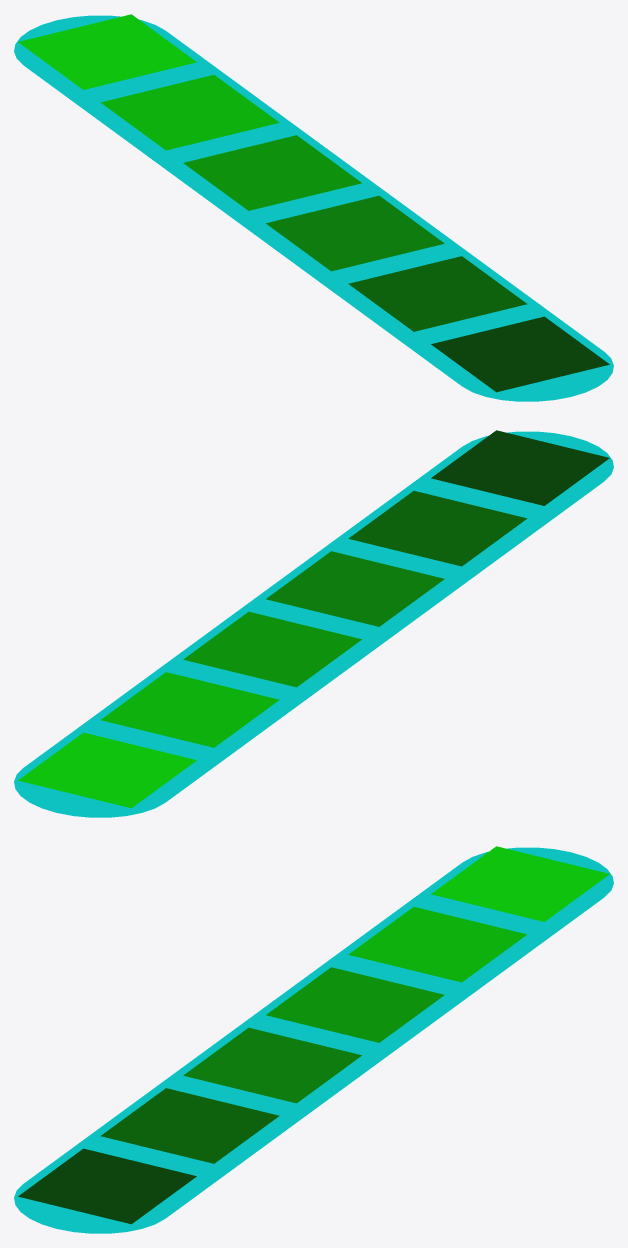
The model's file is Marker Menu.fbx.
3 renders of one model, top to bottom at view 1: azimuth 30°, elevation 25°; view 2: azimuth 150°, elevation 25°; view 3: azimuth 330°, elevation 25°, orthographic.
Visible parts, largest first — view 1: Marker Menu; view 2: Marker Menu; view 3: Marker Menu.
Part boxes in pixels (left/top/right/bottom): Marker Menu: left=14, top=14, right=613, bottom=401; Marker Menu: left=14, top=430, right=613, bottom=817; Marker Menu: left=14, top=846, right=613, bottom=1233.
Size of the model in its own units: 0.887 by 0.076 by 5.55.
